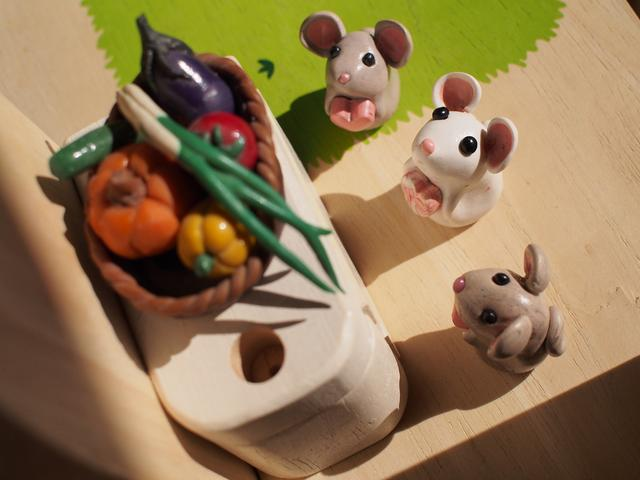mouse: (392, 248, 603, 391), (380, 63, 556, 232), (287, 4, 415, 133)
